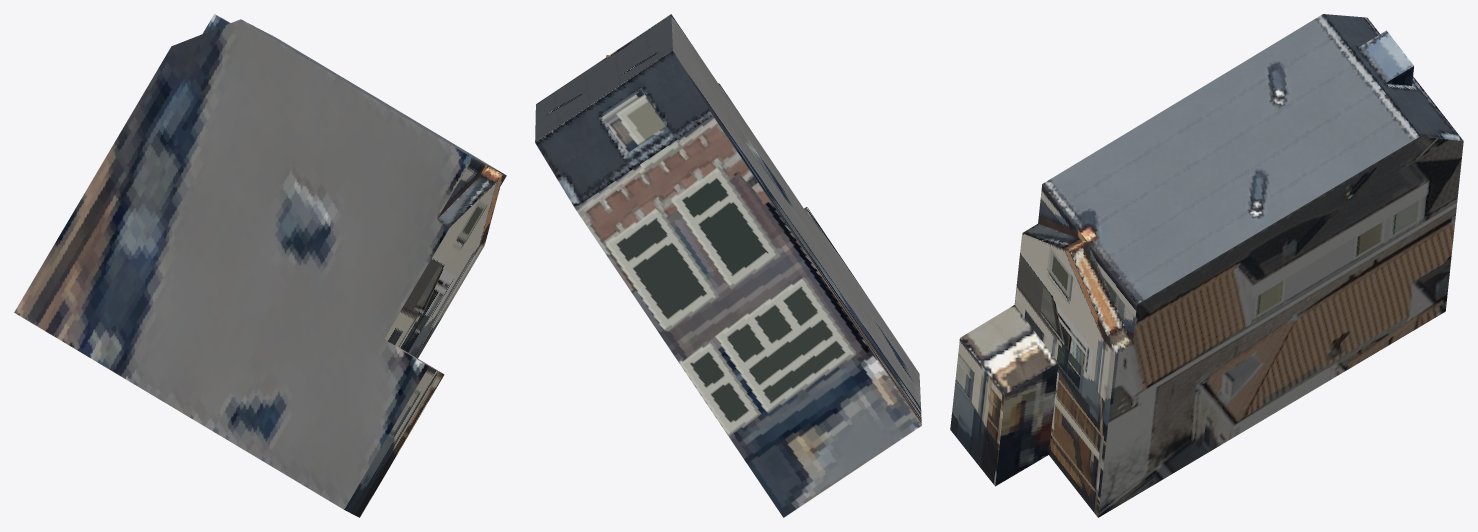
3 renders of one model, left to right at view 1: azimuth 30°, elevation 25°; view 2: azimuth 150°, elevation 25°; view 3: azimuth 270°, elevation 25°, orthographic. The views are drawn at different scales.
Visible parts, largest first — view 1: BAG_0599100000650091 (×6); view 2: BAG_0599100000650091 (×5); view 3: BAG_0599100000650091 (×6).
Boxes of the visible parts, x1,y1,x2,y2 form: BAG_0599100000650091 (×6): (14, 14, 506, 517); BAG_0599100000650091 (×5): (535, 14, 921, 517); BAG_0599100000650091 (×6): (950, 14, 1463, 517).
Bounding box in the file's own units: 14.81 × 14.46 × 13.36.
Materials: 6 (6 with a texture image).
